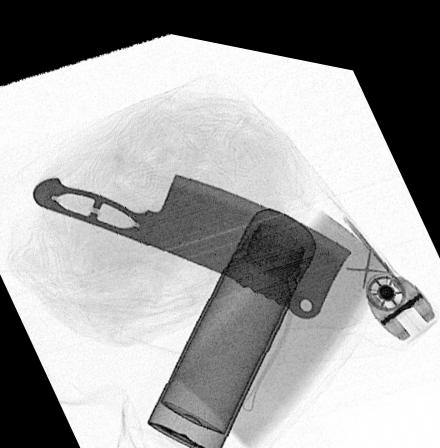Knife: (28, 164, 353, 308)
